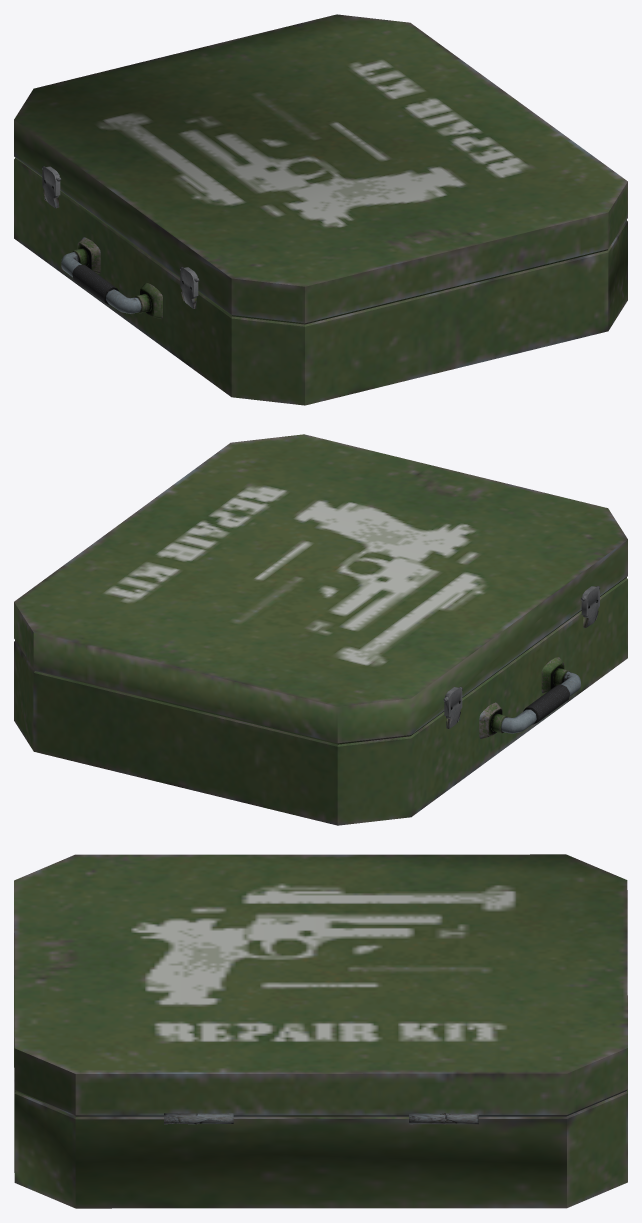
File: FirearmRepairKit.fbx
3 renders of one model, top to bottom at view 1: azimuth 30°, elevation 25°; view 2: azimuth 150°, elevation 25°; view 3: azimuth 270°, elevation 25°, orthographic. The views are drawn at different scales.
Parts seen in each view (by area): view 1: FirearmsRepairKit; view 2: FirearmsRepairKit; view 3: FirearmsRepairKit.
Part boxes in pixels (left/top/right/bottom): FirearmsRepairKit: left=14, top=14, right=627, bottom=405; FirearmsRepairKit: left=14, top=434, right=627, bottom=825; FirearmsRepairKit: left=14, top=854, right=627, bottom=1208.
Bounding box in the file's own units: 0.202 × 0.0523 × 0.2162.
